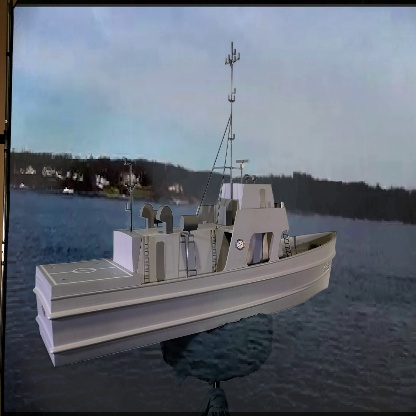YP689: (35, 42, 337, 370)
